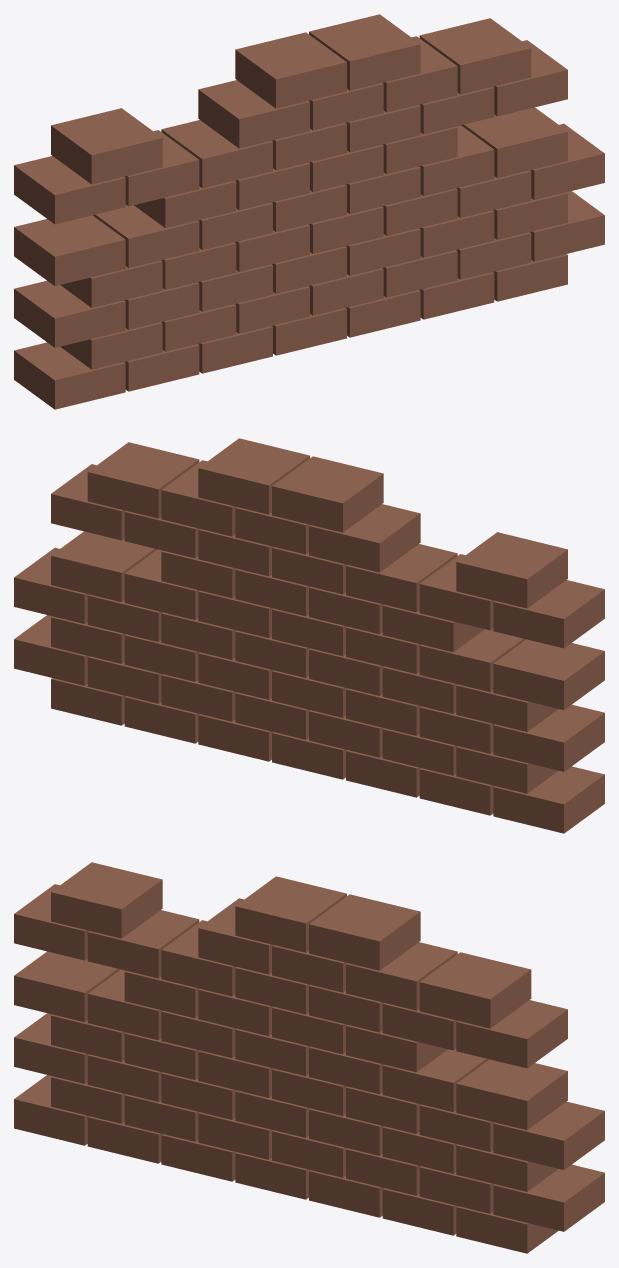
The model's file is ZR_LowWall_Brick_Short.fbx.
3 renders of one model, top to bottom at view 1: azimuth 30°, elevation 25°; view 2: azimuth 150°, elevation 25°; view 3: azimuth 330°, elevation 25°, orthographic.
Parts seen in each view (by area): view 1: ZR_LowWall_Brick_Short; view 2: ZR_LowWall_Brick_Short; view 3: ZR_LowWall_Brick_Short.
Part boxes in pixels (x1,y1,x2,y2): ZR_LowWall_Brick_Short: (14,14,604,409); ZR_LowWall_Brick_Short: (14,438,604,833); ZR_LowWall_Brick_Short: (14,862,604,1253).
Bounding box in the file's own units: 1.87 × 0.895 × 0.24.
